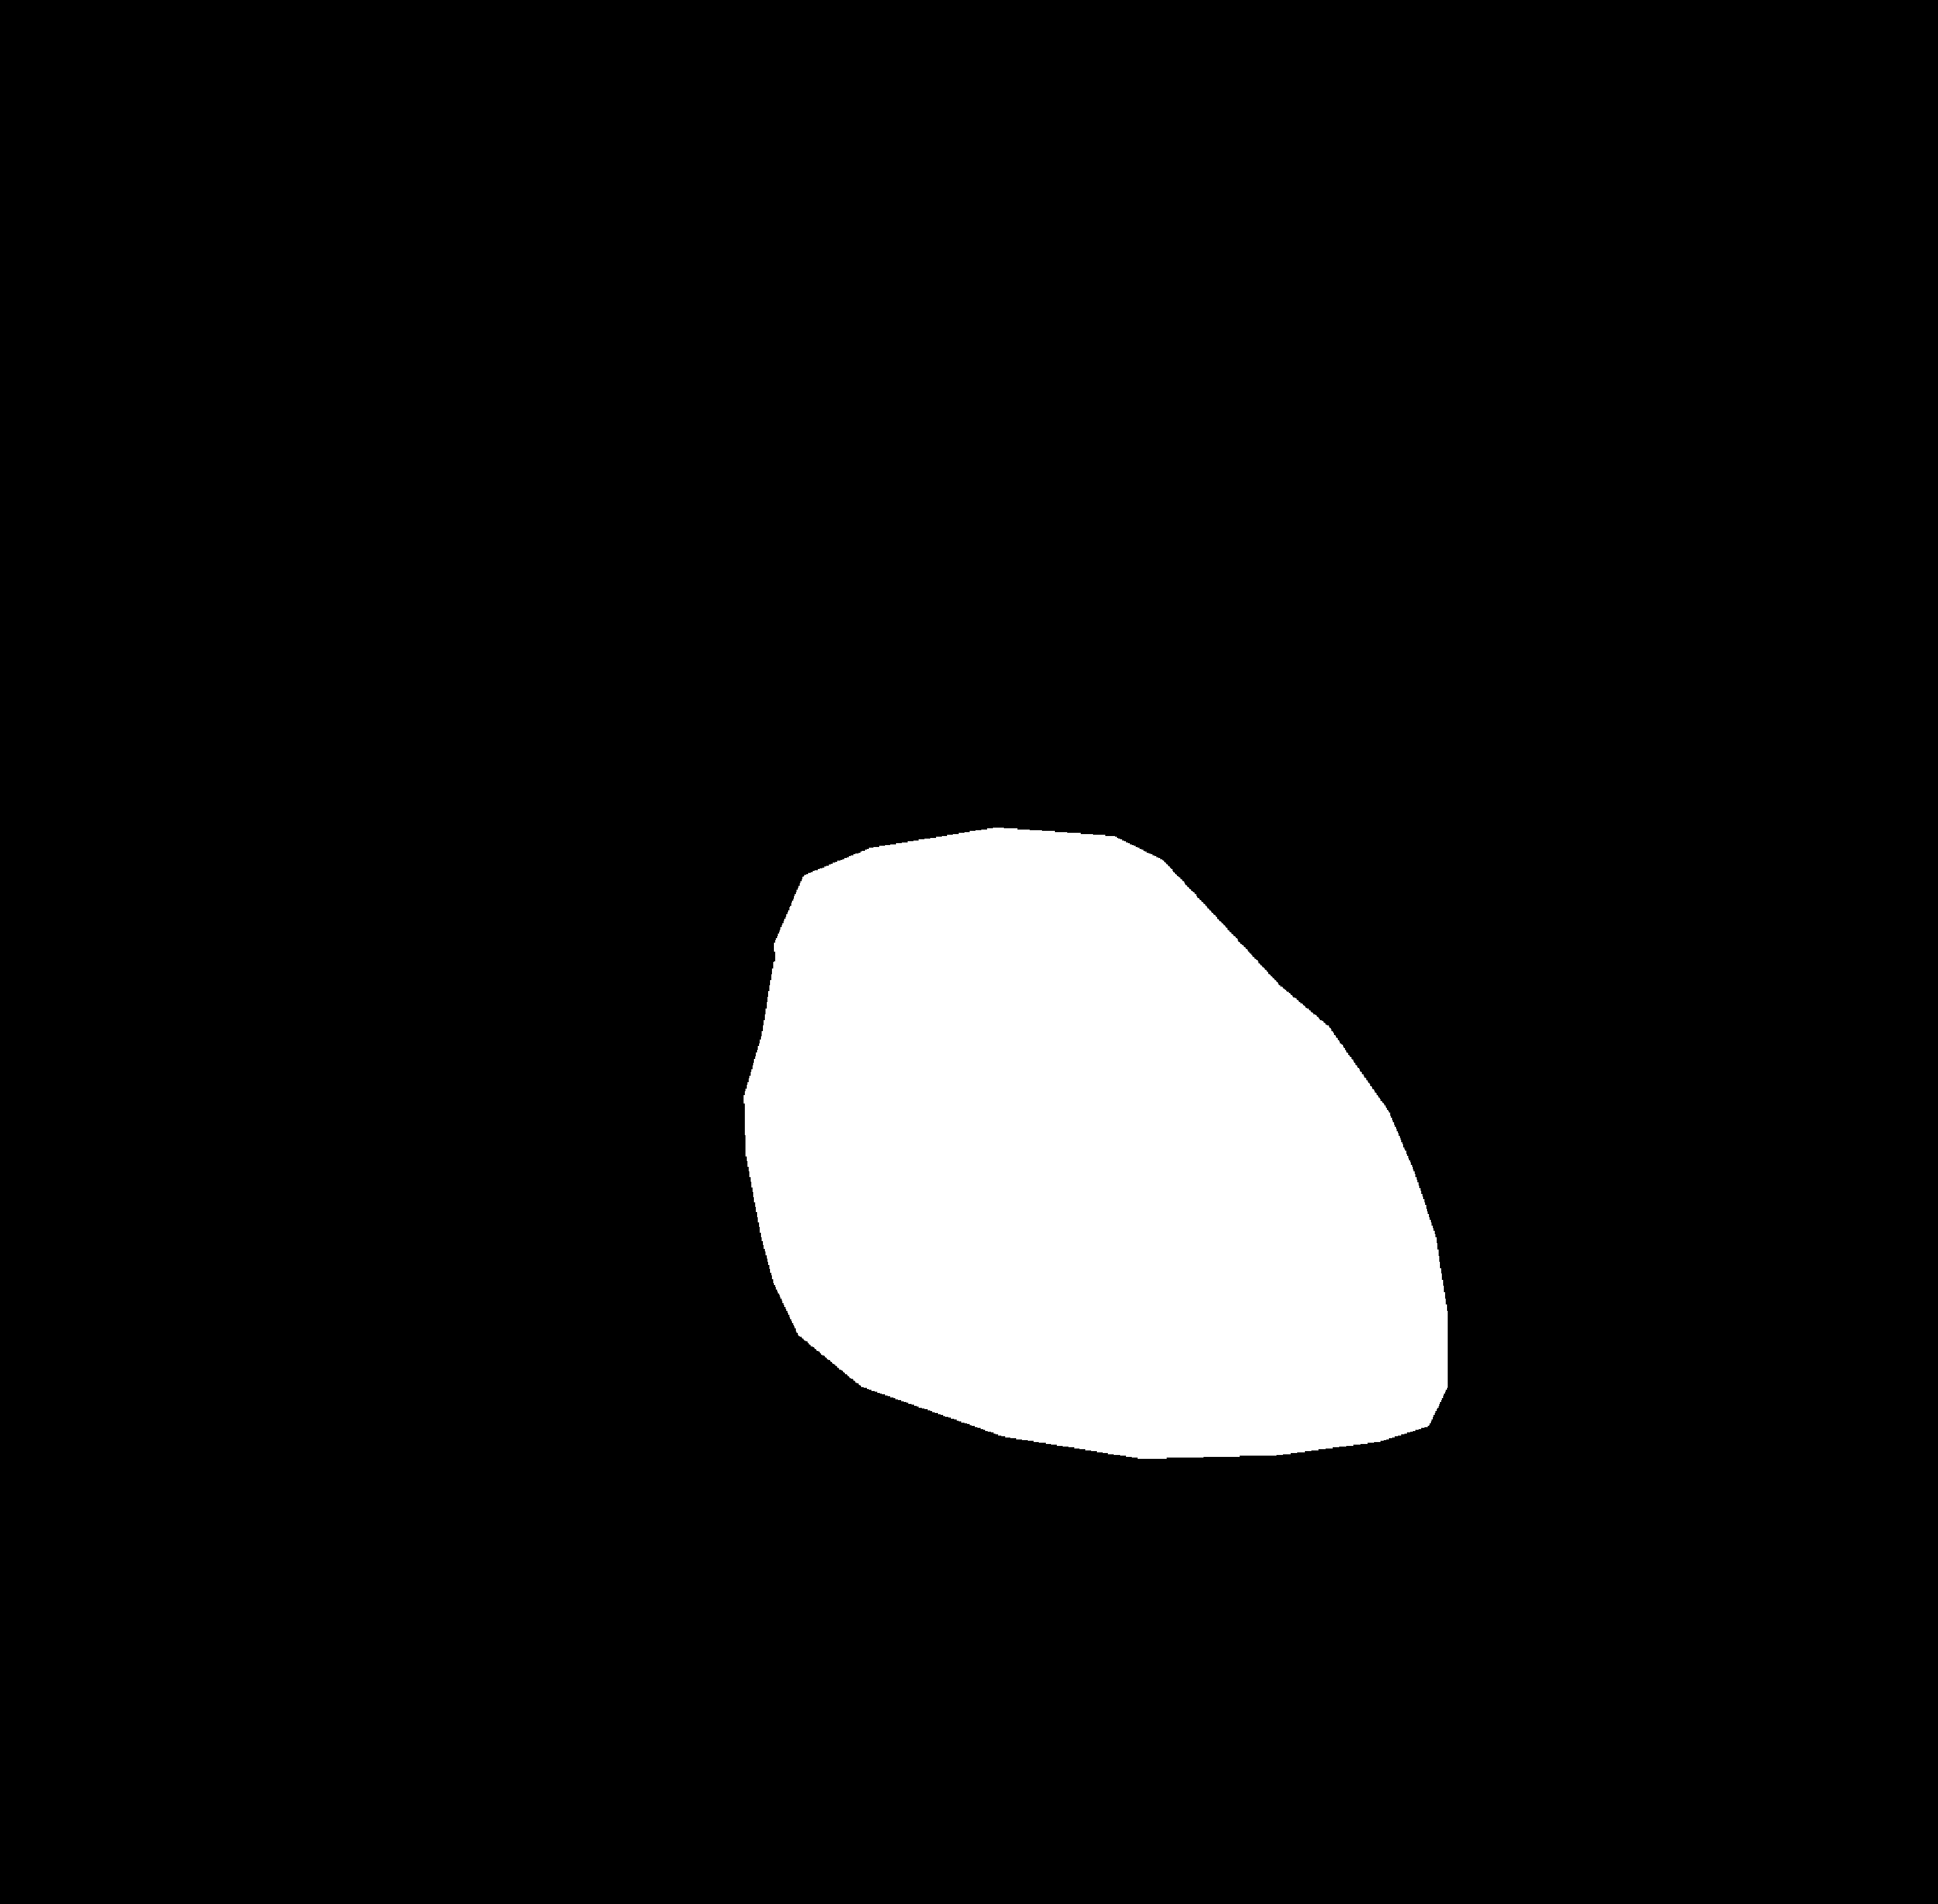heart: (742, 968, 1452, 1512)
left_lung: (288, 272, 837, 1421)
right_lung: (972, 262, 1605, 1599)
